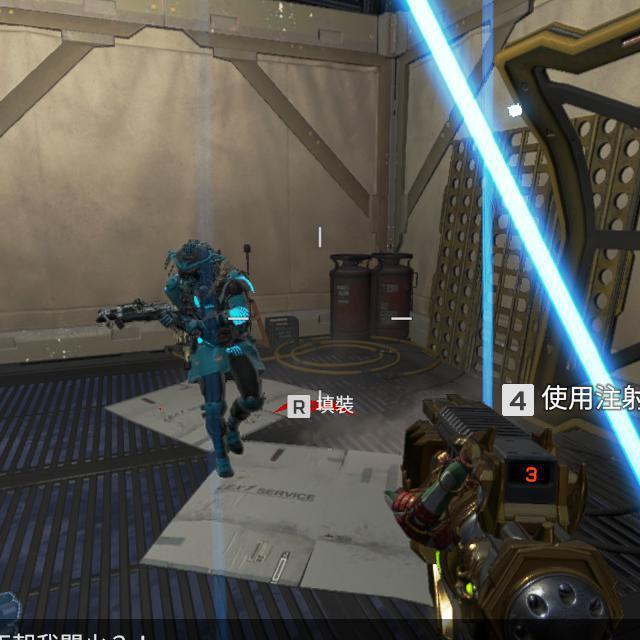avatar: (164, 238, 267, 479)
